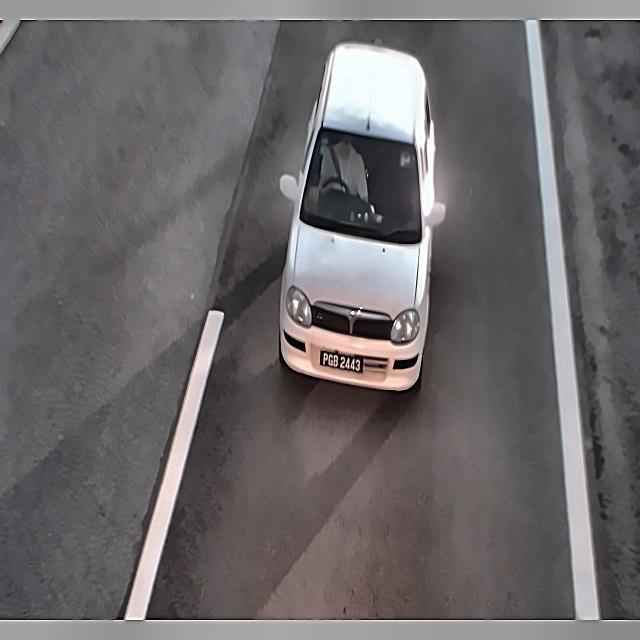car: (319, 350, 363, 381)
